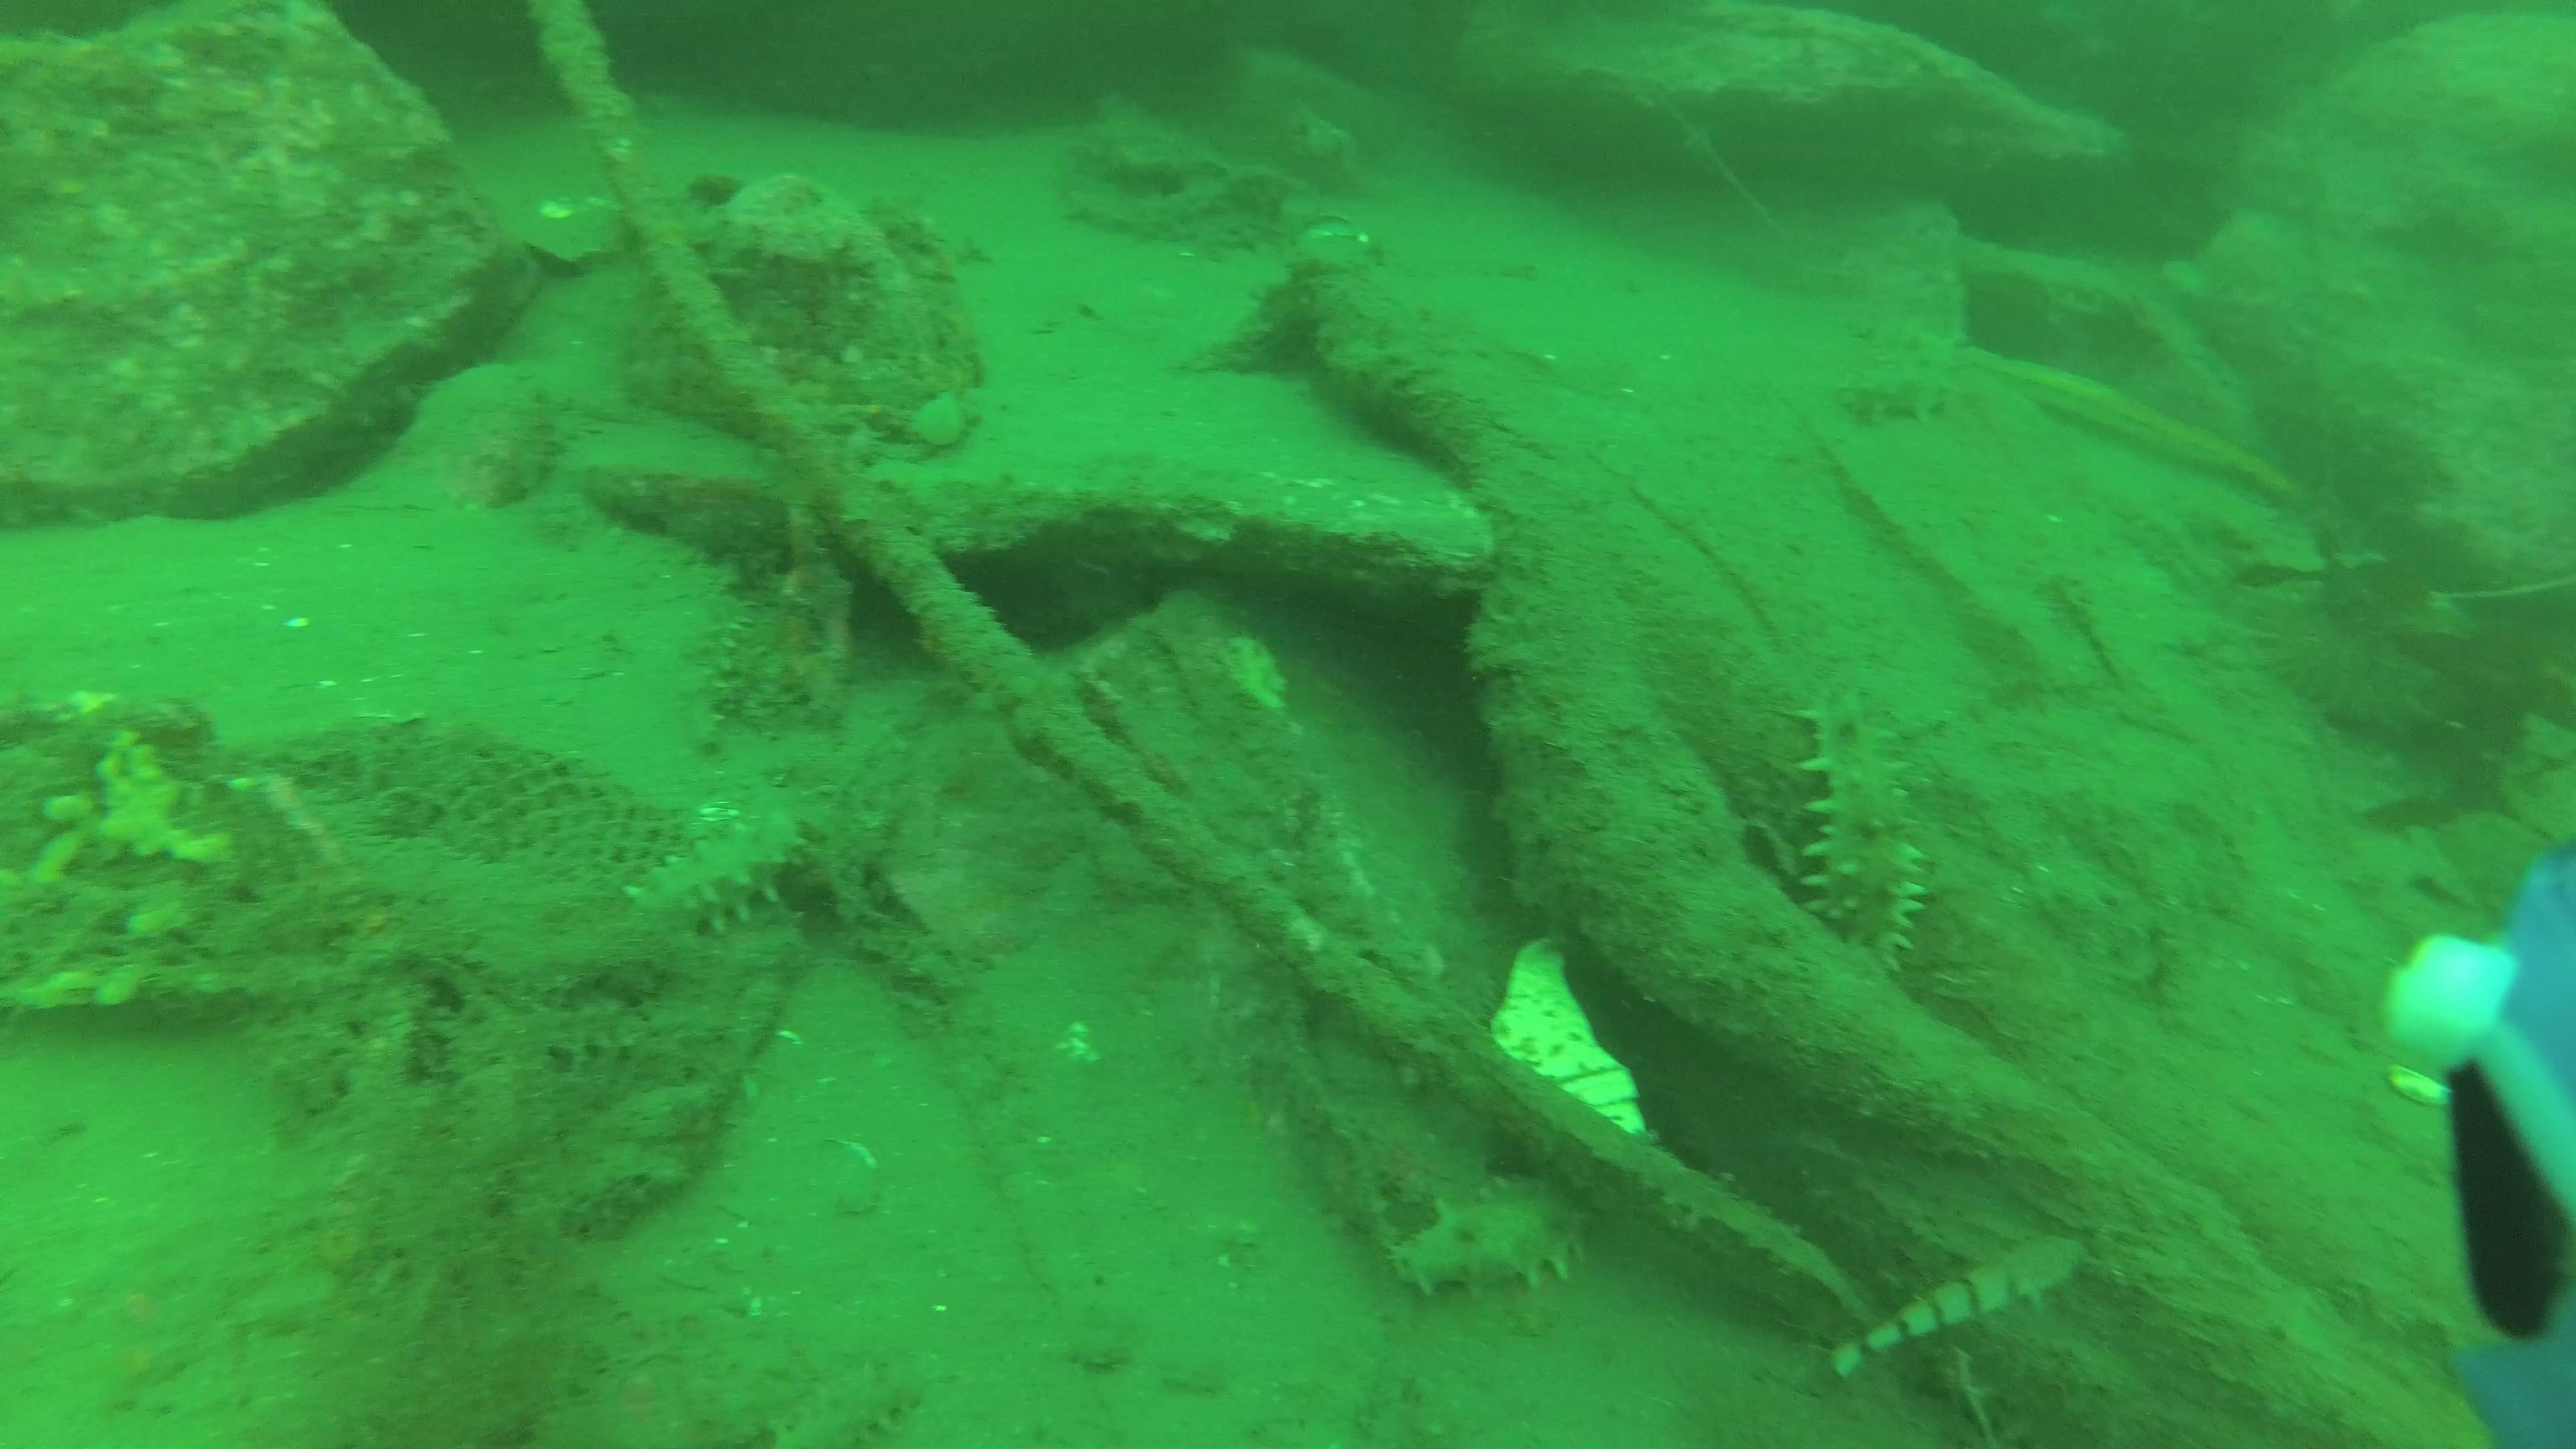echinus: (2243, 580, 2459, 743)
holothurian: (1782, 674, 1932, 985), (1378, 1166, 1605, 1311), (610, 810, 812, 947), (750, 1353, 945, 1449), (1835, 356, 1971, 432)
